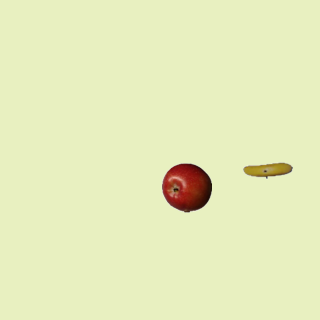Apple Braeburn: (161, 162, 211, 212)
Banana: (242, 145, 292, 195)
